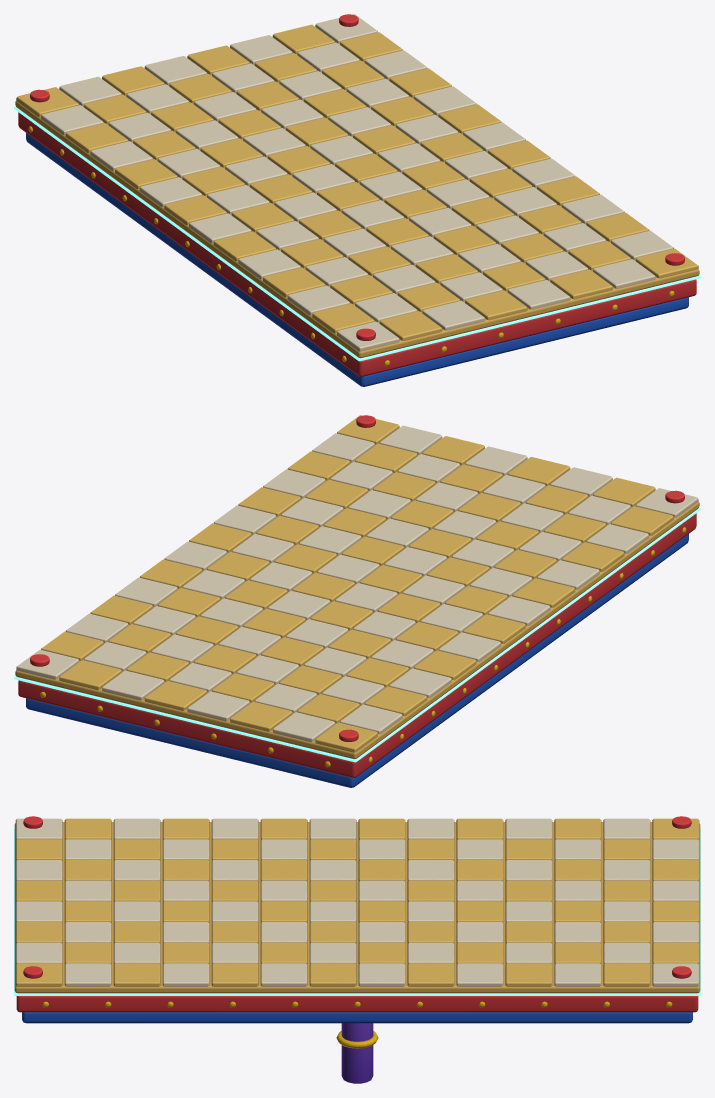
File: PLAT_Toy_XL.glb
The picture shows the model from 3 angles, top to bottom: view 1: azimuth 30°, elevation 25°; view 2: azimuth 150°, elevation 25°; view 3: azimuth 270°, elevation 25°; orthographic projection.
Visible parts, largest first — view 1: Body, EdgeGlow; view 2: Body, EdgeGlow; view 3: Body, EdgeGlow.
Boxes of the visible parts, box(x1,y1,x2,y2) form: Body: box(15, 14, 699, 386); EdgeGlow: box(14, 106, 700, 361); Body: box(15, 415, 699, 787); EdgeGlow: box(14, 507, 700, 762); Body: box(14, 816, 700, 1083); EdgeGlow: box(14, 828, 700, 995).
Size of the model in its own units: 8.03 by 4.12 by 14.03.
